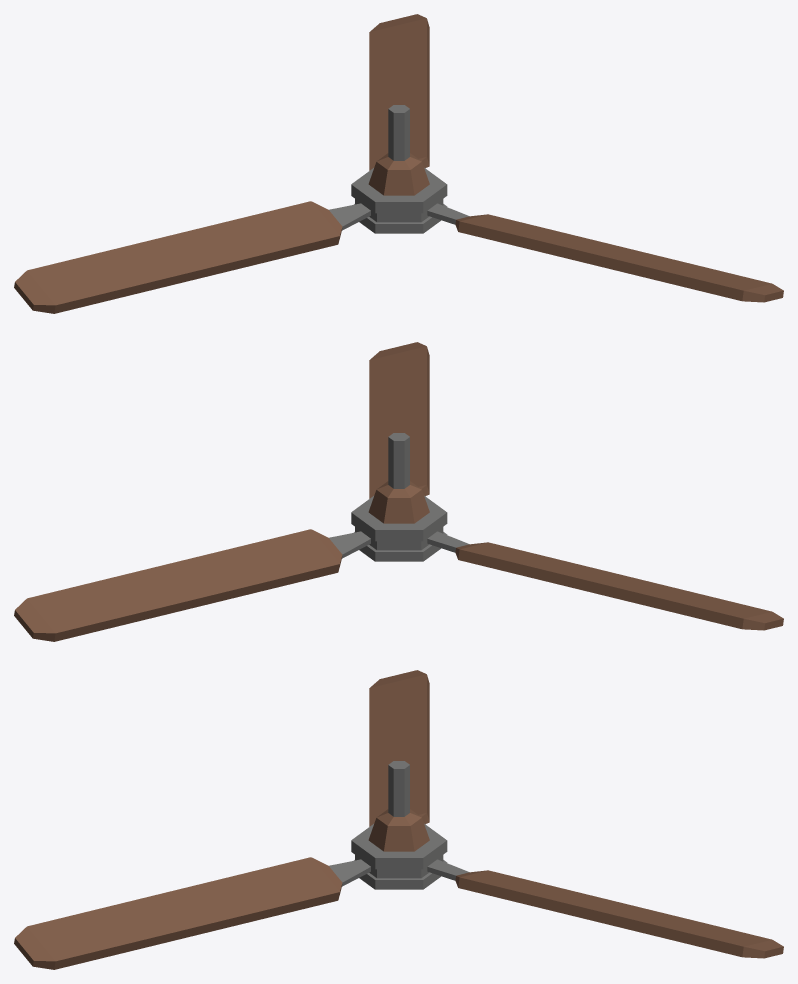
The model's file is SM_Prop_CeilingFan_01.fbx.
3 renders of one model, top to bottom at view 1: azimuth 30°, elevation 25°; view 2: azimuth 150°, elevation 25°; view 3: azimuth 270°, elevation 25°, orthographic.
Visible parts, largest first — view 1: SM_Prop_CeilingFan_Blade_01, SM_Prop_CeilingFan_01; view 2: SM_Prop_CeilingFan_Blade_01, SM_Prop_CeilingFan_01; view 3: SM_Prop_CeilingFan_Blade_01, SM_Prop_CeilingFan_01.
Part boxes in pixels (bbox=[...]): SM_Prop_CeilingFan_Blade_01: bbox=[14, 14, 783, 313]; SM_Prop_CeilingFan_01: bbox=[351, 105, 447, 233]; SM_Prop_CeilingFan_Blade_01: bbox=[14, 342, 783, 641]; SM_Prop_CeilingFan_01: bbox=[351, 433, 447, 561]; SM_Prop_CeilingFan_Blade_01: bbox=[14, 670, 783, 969]; SM_Prop_CeilingFan_01: bbox=[351, 761, 447, 889].
Size of the model in its own units: 262 by 49.44 by 302.
